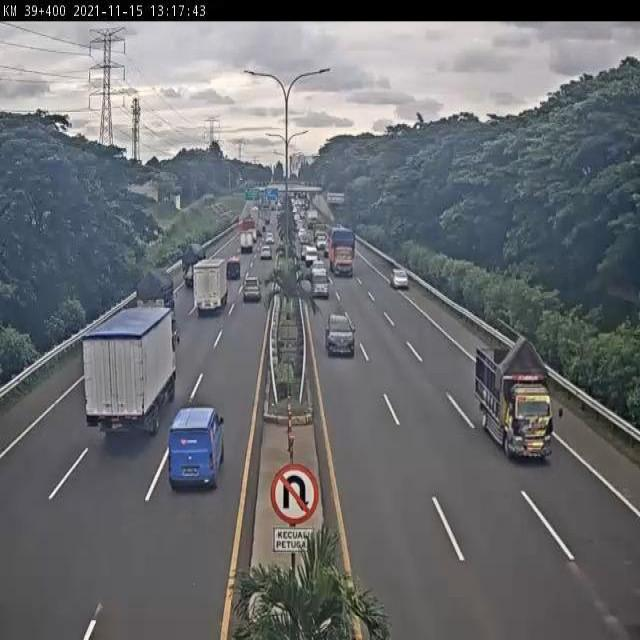bus-s-: (165, 401, 226, 495)
car: (323, 313, 356, 356), (309, 271, 331, 304), (240, 273, 261, 307), (389, 265, 412, 291)
truck-m-: (83, 304, 179, 436), (475, 331, 556, 465), (193, 254, 229, 314), (134, 269, 175, 320), (324, 228, 363, 280)
